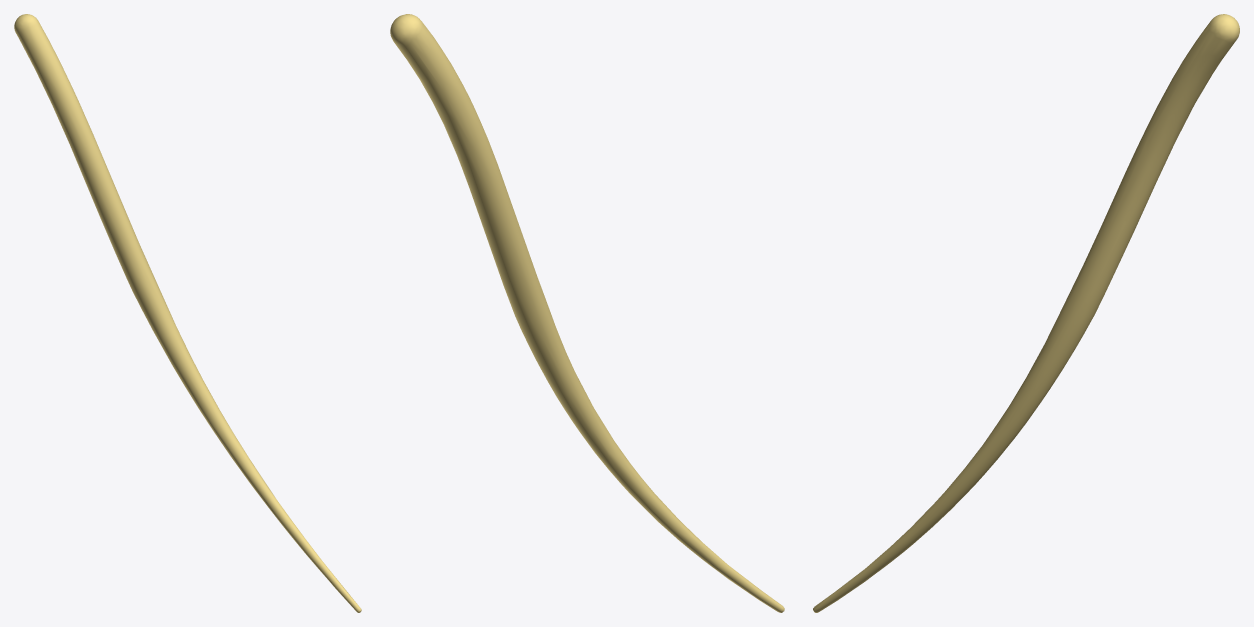
Rendered from fma52995_fj3946.glb.
3 renders of one model, left to right at view 1: azimuth 90°, elevation 25°; view 2: azimuth 150°, elevation 25°; view 3: azimuth 270°, elevation 25°, orthographic. The views are drawn at different scales.
Parts seen in each view (by area): view 1: FMA52995_FJ3946; view 2: FMA52995_FJ3946; view 3: FMA52995_FJ3946.
Part boxes in pixels (x1,y1,x2,y2): FMA52995_FJ3946: [14, 14, 361, 612]; FMA52995_FJ3946: [390, 14, 784, 612]; FMA52995_FJ3946: [813, 14, 1239, 612].
Bounding box in the file's own units: 0.00731 × 0.0296 × 0.0172.
